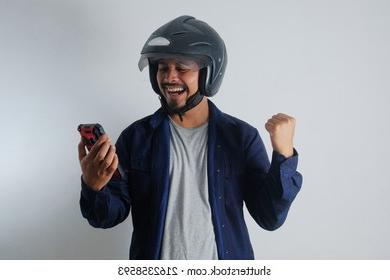Helmet: (138, 16, 228, 98)
